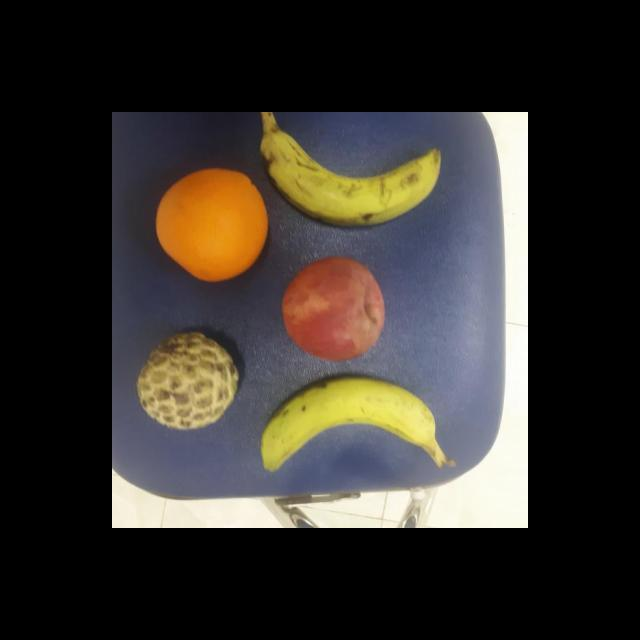Sakya fruit: (135, 330, 244, 432)
apple: (281, 256, 387, 363)
banana: (258, 121, 444, 232), (260, 374, 449, 474)
orange: (152, 165, 274, 284)
